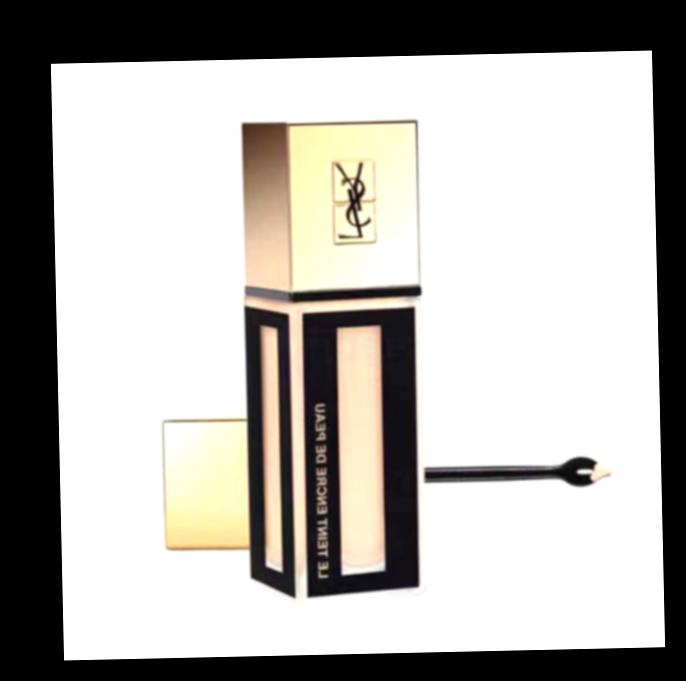cosmetic: (236, 120, 426, 602)
